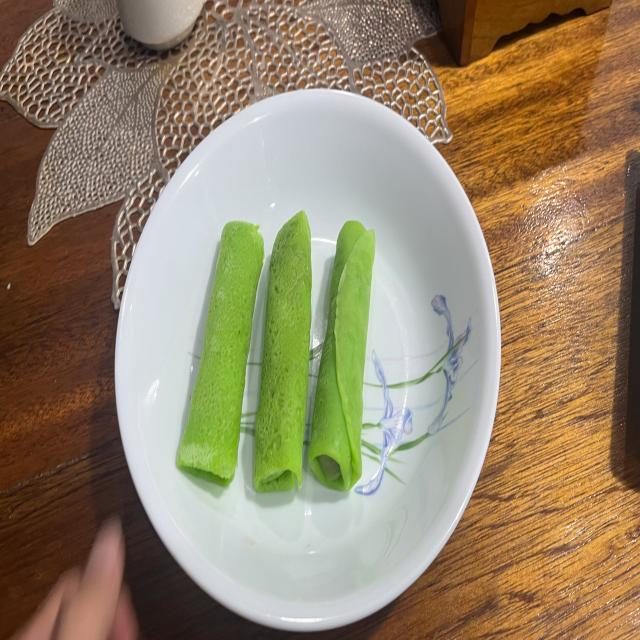Kuih-Ketayap: (178, 222, 264, 487), (310, 222, 375, 489), (254, 211, 311, 491)
